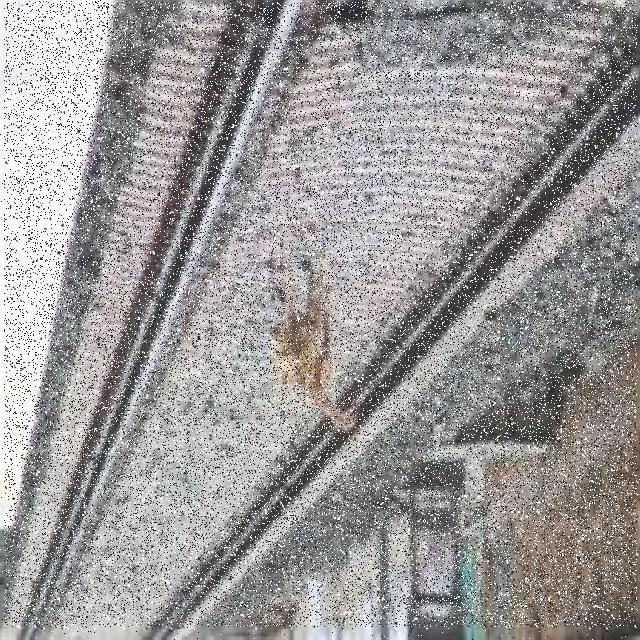rail: (6, 3, 638, 628)
